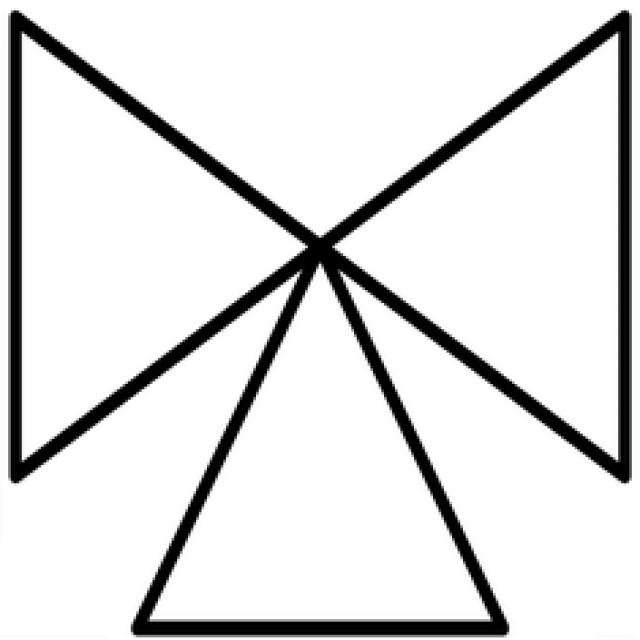3-way Valve: (11, 10, 626, 632)
